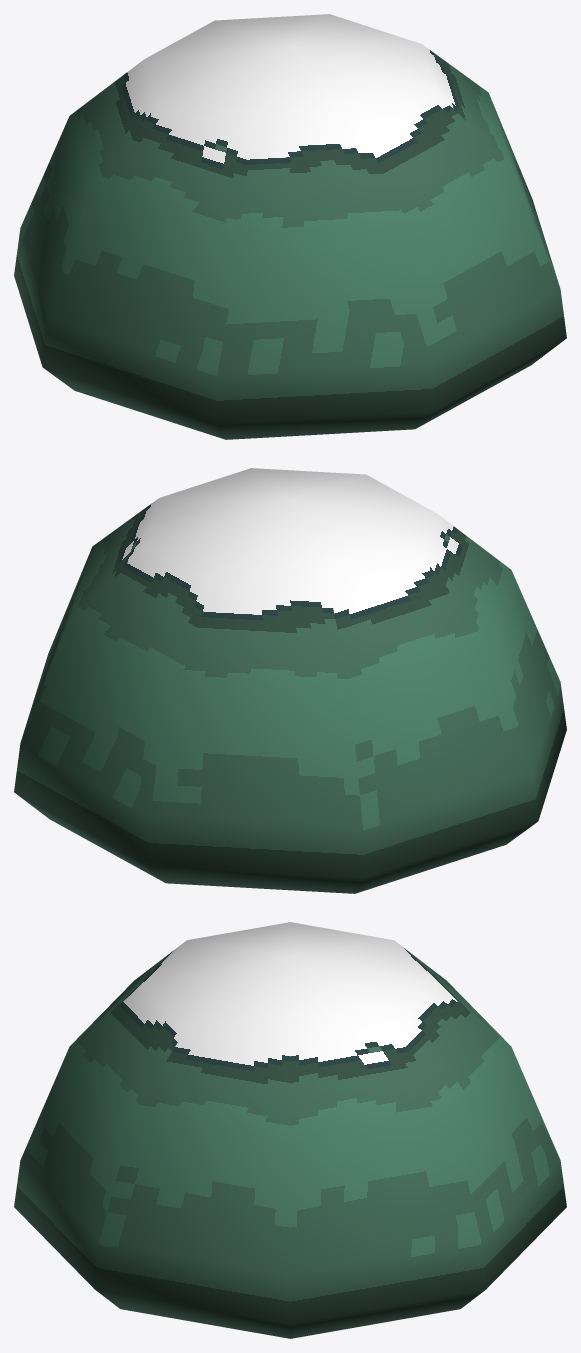
File: bush1.glb
The picture shows the model from 3 angles, top to bottom: view 1: azimuth 30°, elevation 25°; view 2: azimuth 150°, elevation 25°; view 3: azimuth 270°, elevation 25°; orthographic projection. The views are drawn at different scales.
Visible parts, largest first — view 1: Cylinder.001; view 2: Cylinder.001; view 3: Cylinder.001.
Boxes of the visible parts, x1,y1,x2,y2 form: Cylinder.001: (14,14,566,439); Cylinder.001: (14,468,566,893); Cylinder.001: (14,922,566,1338).
Bounding box in the file's own units: 68.54 × 38.41 × 68.54.
Materials: 1 (1 with a texture image).
